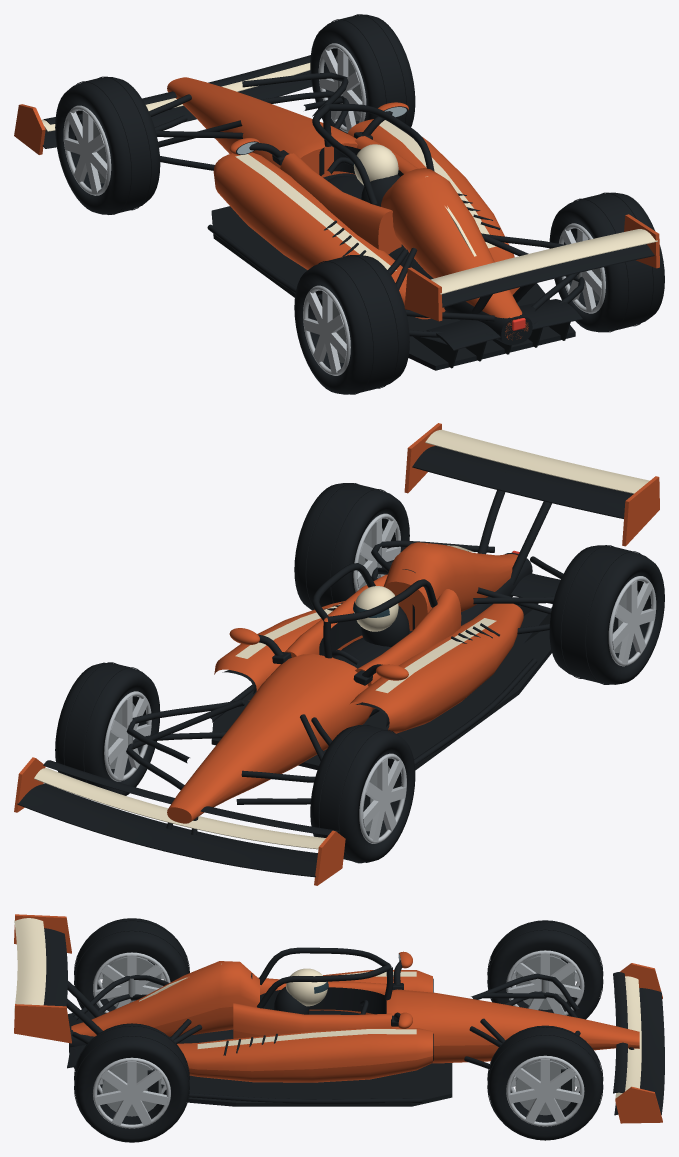
File: formula-high.glb
3 renders of one model, top to bottom at view 1: azimuth 30°, elevation 25°; view 2: azimuth 150°, elevation 25°; view 3: azimuth 270°, elevation 25°, orthographic. The views are drawn at different scales.
Parts seen in each view (by area): view 1: body_paint, wheel_carbon (×4), body_carbon, wheel_rim (×4), body_accent; view 2: body_paint, body_carbon, wheel_carbon (×4), body_accent, wheel_rim (×4); view 3: body_paint, wheel_carbon (×4), body_carbon, wheel_rim (×4), body_accent, wheel_metal (×4).
Boxes of the visible parts, x1,y1,x2,y2 form: body_paint: (14,77,659,339); wheel_carbon (×4): (55,14,664,394); body_carbon: (42,55,654,370); wheel_rim (×4): (63,43,605,375); body_accent: (41,63,657,294); body_paint: (14,423,659,885); body_carbon: (17,446,633,877); wheel_carbon (×4): (55,483,664,863); body_accent: (34,429,649,849); wheel_rim (×4): (104,513,656,843); body_paint: (14,914,662,1123); wheel_carbon (×4): (74,918,603,1142); body_carbon: (44,928,664,1115); wheel_rim (×4): (93,950,584,1128); body_accent: (14,918,641,1098); wheel_metal (×4): (102,954,575,1116).
Bounding box in the file's own units: 1.11 × 0.4959 × 2.38.
